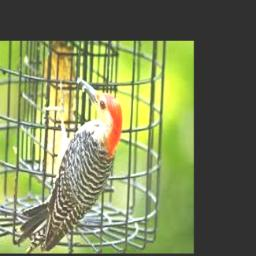Woodpecker: (20, 76, 123, 252)
